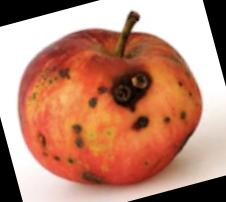Apple: (22, 26, 201, 188)
